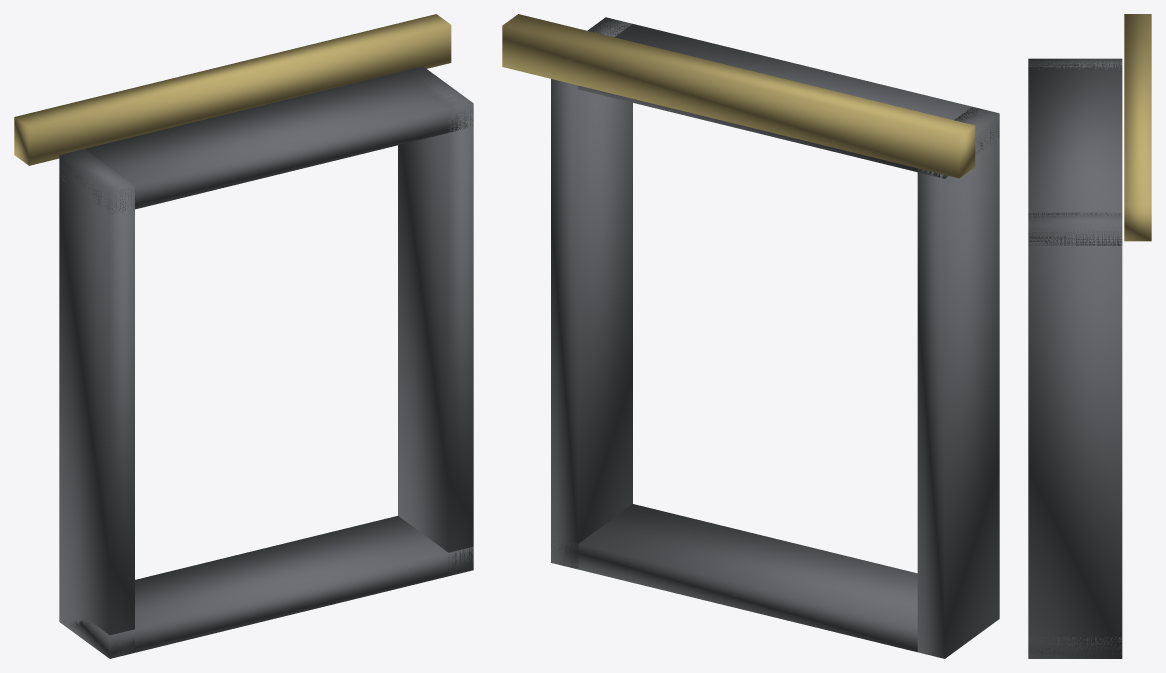
Rendered from egress_window_motel_w86_h110_s72_d24.glb.
3 views of the same model, side by side, from view 1: azimuth 30°, elevation 25°; view 2: azimuth 150°, elevation 25°; view 3: azimuth 270°, elevation 25° (orthographic). The views are drawn at different scales.
Visible parts, largest first — view 1: world; view 2: world; view 3: world.
Part boxes in pixels (<box>): world: <box>14,14,473,658</box>; world: <box>502,14,999,658</box>; world: <box>1028,14,1151,658</box>.
Size of the model in its own units: 1.16 by 1.31 by 0.315.
